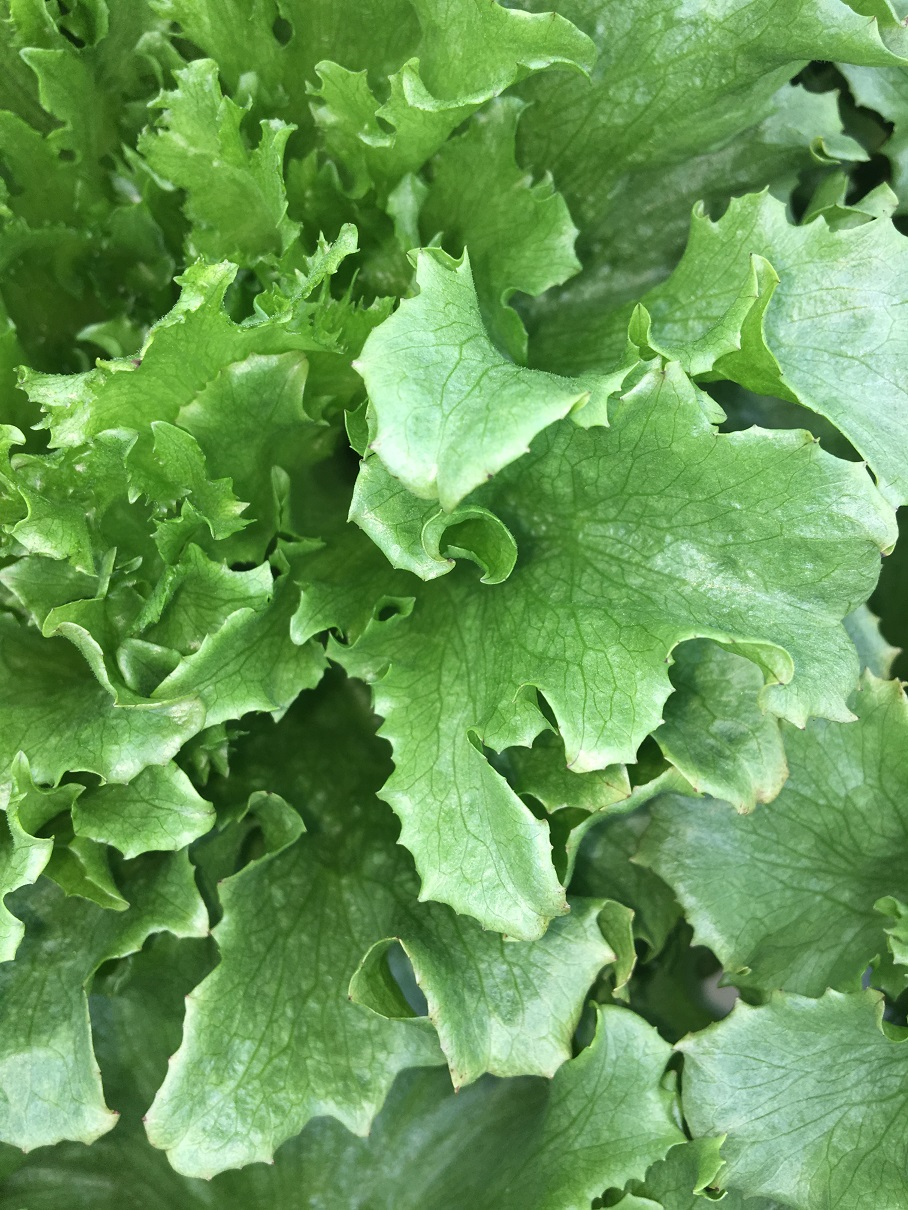tipburn: (586, 768, 645, 825), (857, 651, 908, 716), (734, 772, 800, 820), (737, 237, 787, 290), (484, 907, 536, 953), (755, 658, 800, 705), (65, 970, 106, 1015), (334, 978, 376, 1018), (700, 1161, 739, 1202), (544, 880, 582, 920), (438, 1060, 474, 1100), (356, 422, 392, 460), (119, 347, 154, 382), (677, 776, 712, 810), (127, 1098, 161, 1133), (210, 865, 243, 901), (794, 417, 833, 447), (86, 1097, 121, 1129), (652, 643, 684, 677), (439, 545, 468, 582), (872, 525, 896, 565), (194, 922, 234, 944), (476, 462, 506, 490)
